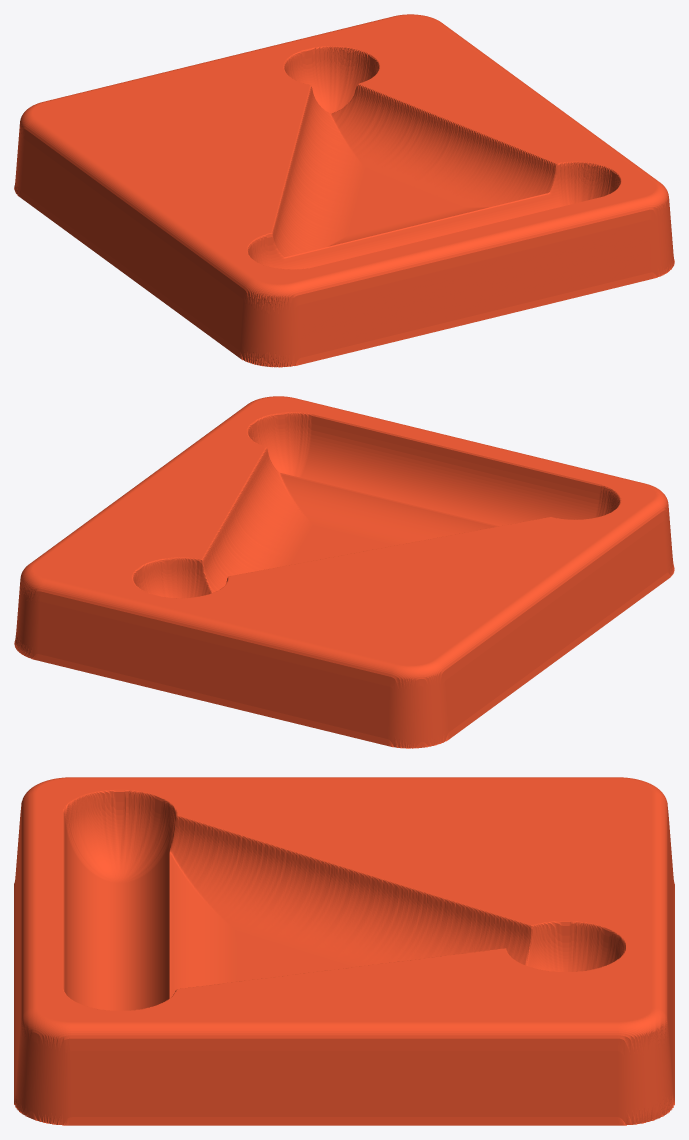
The model's file is mold.glb.
3 views of the same model, one above another, from view 1: azimuth 30°, elevation 25°; view 2: azimuth 150°, elevation 25°; view 3: azimuth 270°, elevation 25° (orthographic). The views are drawn at different scales.
Visible parts, largest first — view 1: geometry_0; view 2: geometry_0; view 3: geometry_0.
Boxes of the visible parts, bbox=[...] form: geometry_0: bbox=[14, 14, 674, 367]; geometry_0: bbox=[14, 396, 674, 748]; geometry_0: bbox=[14, 777, 674, 1125].
Bounding box in the file's own units: 0.0986 × 0.0165 × 0.105.
